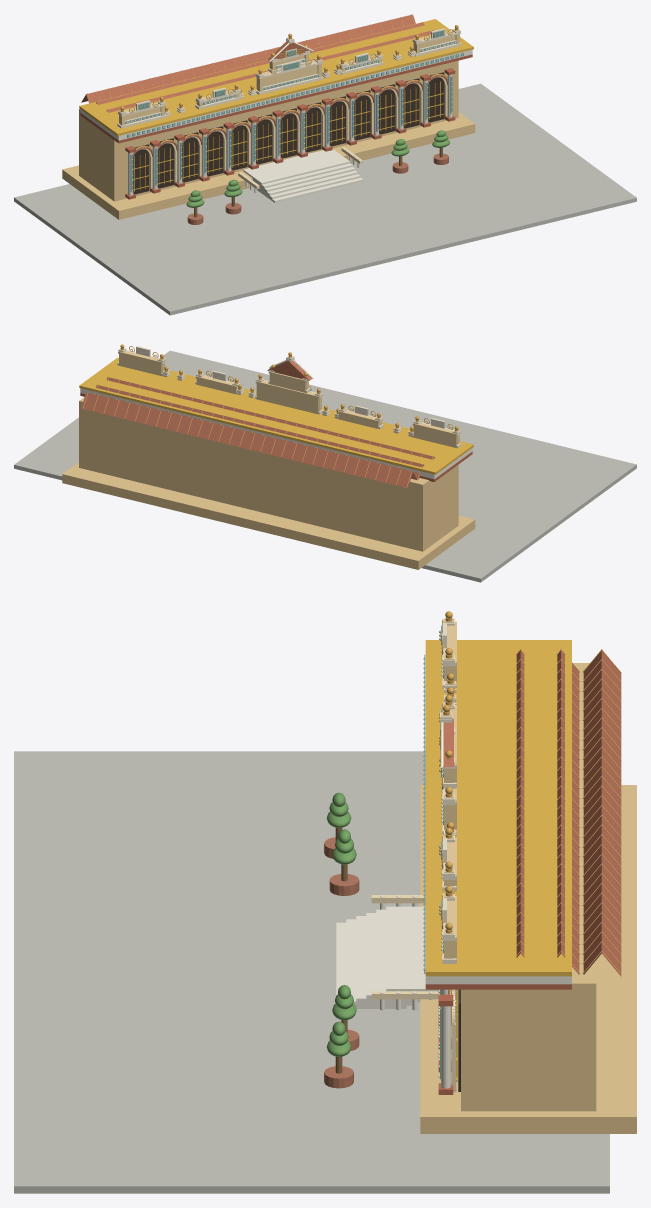
File: chanh-dien-chi-tiet.glb
3 renders of one model, top to bottom at view 1: azimuth 30°, elevation 25°; view 2: azimuth 150°, elevation 25°; view 3: azimuth 270°, elevation 25°, orthographic. The views are drawn at different scales.
Parts seen in each view (by area): view 1: Sân, Viền mái trên, Khối kiến trúc, Nền chính điện, Mái ngói phía sau.002, Bậc thềm.005, Diềm gốm, Viền mái dưới, Mái ngói phía sau.001, Mái ngói phía sau, Cửa vòm.002, Cửa vòm.005 (+17 smaller); view 2: Khối kiến trúc, Sân, Viền mái trên, Nền chính điện, Mái ngói phía sau.002, Mái ngói phía sau.001, Mái ngói phía sau, Diềm gốm, Thân ô mái.004, Thân ô mái, Thân ô mái.001, Thân ô mái.005 (+3 smaller); view 3: Sân, Viền mái trên, Khối kiến trúc, Nền chính điện, Mái ngói phía sau.002, Mái ngói phía sau.001, Bậc thềm.005, Mái ngói phía sau, Diềm gốm, Bậc thềm.002, Bậc thềm.001, Bậc thềm.003 (+4 smaller).
Part boxes in pixels (bbox=[...]): Sân: bbox=[14, 83, 636, 315]; Viền mái trên: bbox=[79, 19, 473, 136]; Khối kiến trúc: bbox=[79, 60, 458, 201]; Nền chính điện: bbox=[62, 112, 475, 219]; Mái ngói phía sau.002: bbox=[81, 14, 415, 103]; Bậc thềm.005: bbox=[243, 149, 350, 184]; Diềm gốm: bbox=[80, 49, 472, 140]; Viền mái dưới: bbox=[80, 54, 472, 143]; Mái ngói phía sau.001: bbox=[96, 22, 424, 104]; Mái ngói phía sau: bbox=[107, 30, 434, 112]; Cửa vòm.002: bbox=[182, 132, 198, 182]; Cửa vòm.005: bbox=[256, 114, 272, 164]; Khối kiến trúc: bbox=[79, 397, 458, 551]; Sân: bbox=[14, 350, 636, 582]; Viền mái trên: bbox=[79, 357, 473, 474]; Nền chính điện: bbox=[62, 462, 475, 569]; Mái ngói phía sau.002: bbox=[81, 392, 417, 488]; Mái ngói phía sau.001: bbox=[94, 385, 424, 479]; Mái ngói phía sau: bbox=[106, 377, 434, 459]; Diềm gốm: bbox=[80, 388, 472, 479]; Thân ô mái.004: bbox=[256, 380, 318, 414]; Thân ô mái: bbox=[413, 423, 456, 447]; Thân ô mái.001: bbox=[119, 351, 161, 375]; Thân ô mái.005: bbox=[269, 371, 305, 392]; Sân: bbox=[14, 751, 609, 1193]; Viền mái trên: bbox=[425, 640, 571, 976]; Khối kiến trúc: bbox=[461, 663, 596, 1111]; Nền chính điện: bbox=[420, 785, 636, 1133]; Mái ngói phía sau.002: bbox=[583, 649, 621, 976]; Mái ngói phía sau.001: bbox=[557, 649, 579, 974]; Bậc thềm.005: bbox=[386, 906, 439, 991]; Mái ngói phía sau: bbox=[516, 649, 524, 957]; Diềm gốm: bbox=[425, 976, 571, 984]; Bậc thềm.002: bbox=[356, 916, 420, 1002]; Bậc thềm.001: bbox=[346, 919, 412, 1005]; Bậc thềm.003: bbox=[366, 913, 376, 998].
Bounding box in the file's own units: 38 × 11.04 × 23.
